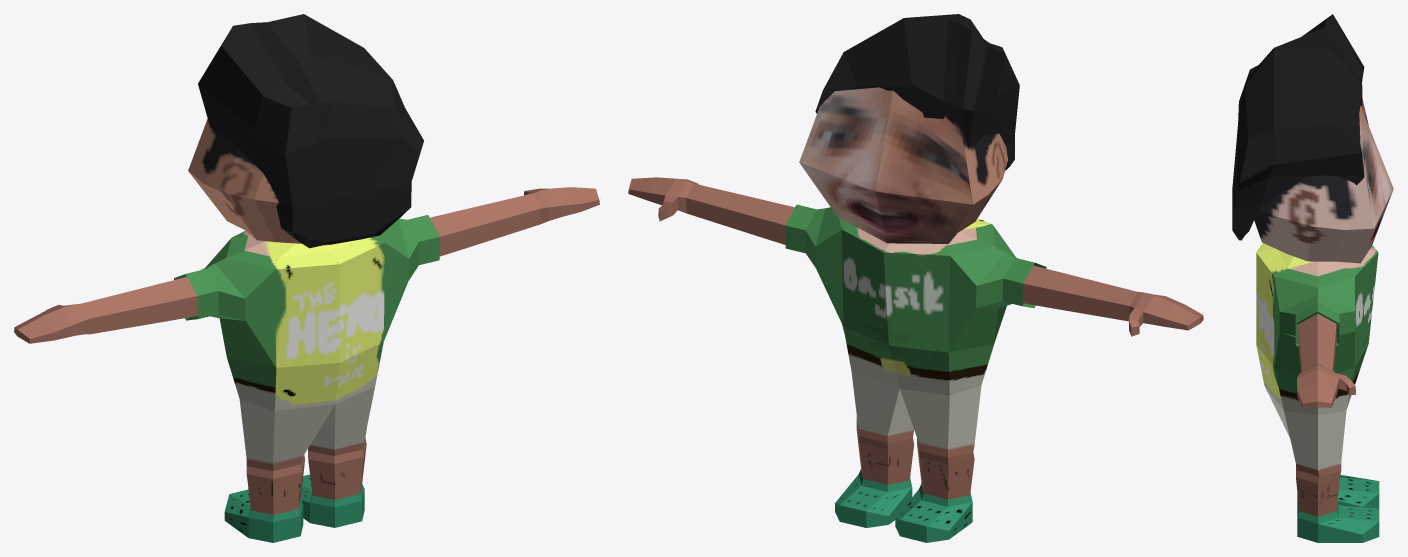
Rendered from Angelo.fbx.
3 renders of one model, left to right at view 1: azimuth 30°, elevation 25°; view 2: azimuth 150°, elevation 25°; view 3: azimuth 270°, elevation 25°, orthographic. The views are drawn at different scales.
Visible parts, largest first — view 1: Hair; view 2: Hair; view 3: Hair.
Part boxes in pixels (x1,y1,x2,y2): Hair: (14, 14, 599, 542); Hair: (628, 14, 1203, 542); Hair: (1232, 14, 1393, 542).
Bounding box in the file's own units: 1369 × 1152 × 356.
3 materials, 2 textured.
